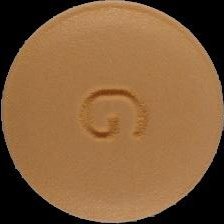63187-479: (0, 0, 224, 224)
